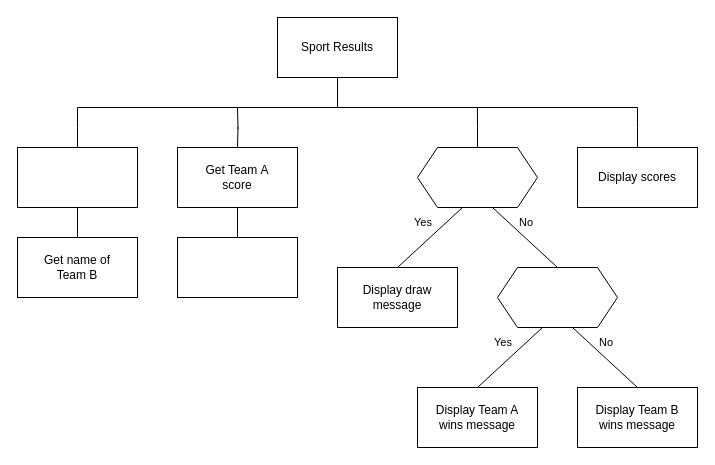
This 715x465 diagram has some shape labels left out. The box of each missing label's shape, as (x1, y1, x2, y2) in pixels:
Get name of Team A: (16, 146, 138, 208)
Get Team B score: (176, 236, 298, 298)
Is Team A score more than Team B score?: (496, 266, 618, 328)
Is Team A score same as Team B score?: (416, 146, 538, 208)
